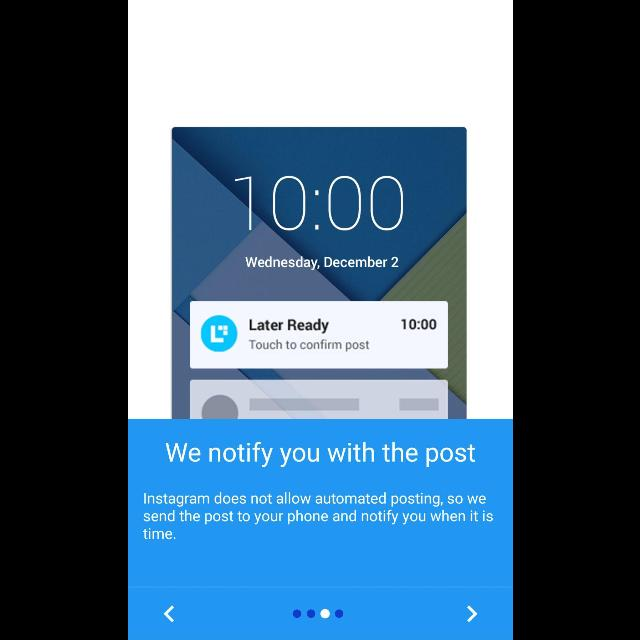icon: (162, 606, 174, 622), (466, 606, 476, 622)
image: (172, 127, 466, 419)
pageindicator: (292, 609, 342, 619)
text: (142, 492, 492, 540), (165, 441, 475, 467)
